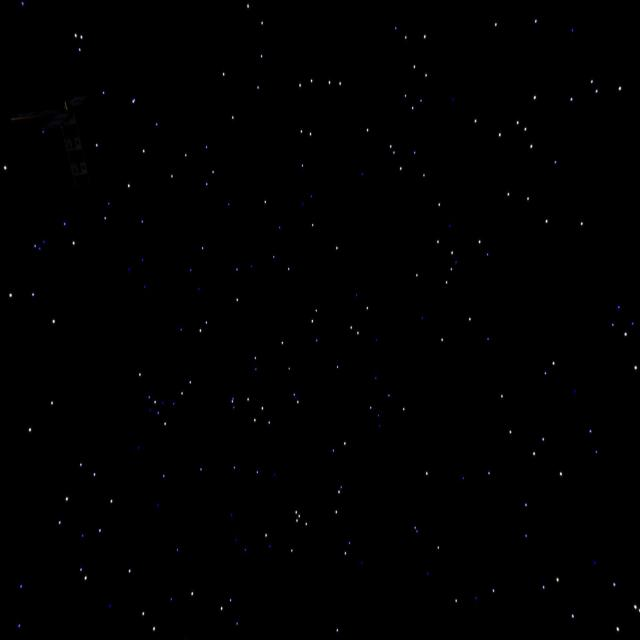satellite: (2, 67, 124, 221)
